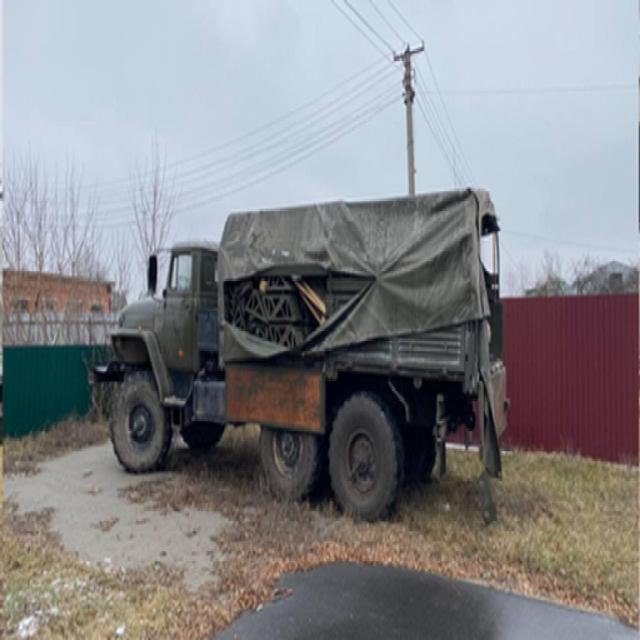TRUCK: (88, 171, 510, 536)
